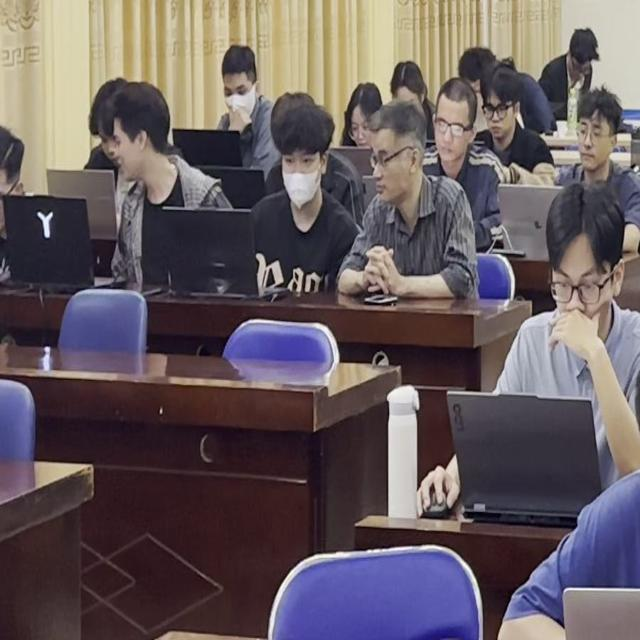Looking away: (538, 179, 624, 345), (270, 78, 332, 223), (364, 101, 436, 200), (106, 87, 172, 176), (566, 77, 623, 179), (212, 41, 268, 133), (430, 77, 471, 177), (476, 67, 521, 153), (568, 27, 604, 82), (377, 259, 382, 261)
